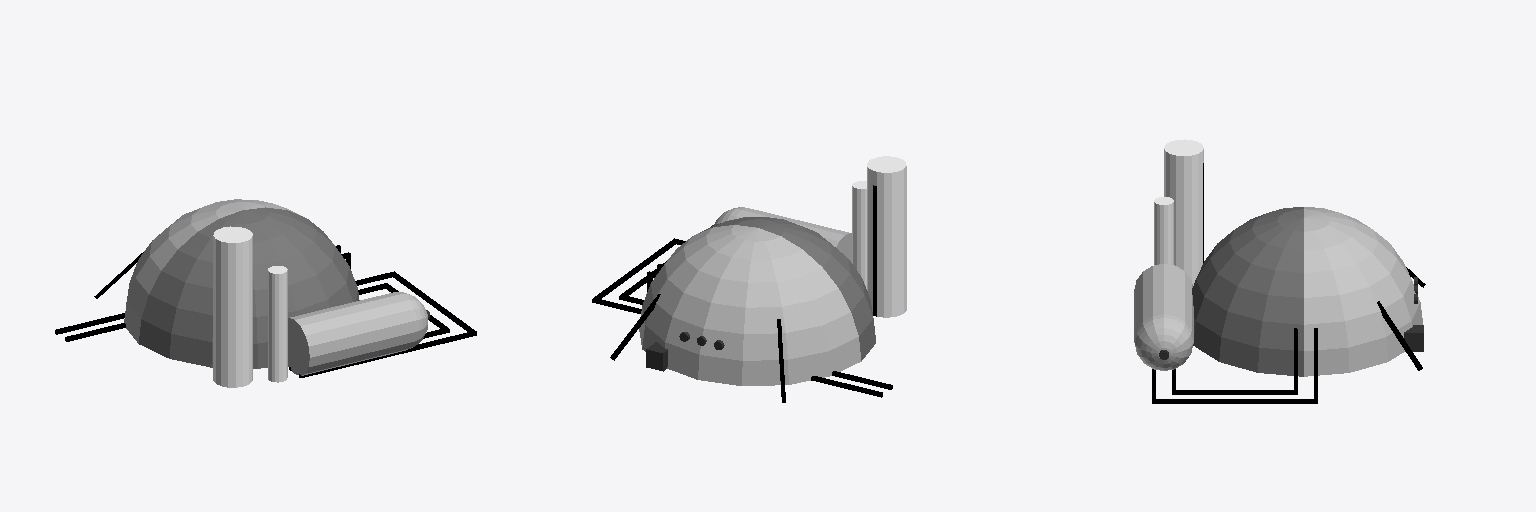
Rendered from ChemicalPlant.obj.
3 renders of one model, left to right at view 1: azimuth 30°, elevation 25°; view 2: azimuth 150°, elevation 25°; view 3: azimuth 270°, elevation 25°, orthographic.
Parts seen in each view (by area): view 1: ChemicalPlant; view 2: ChemicalPlant; view 3: ChemicalPlant.
Boxes of the visible parts, <box> form: ChemicalPlant: <box>55,199,476,387</box>; ChemicalPlant: <box>592,156,906,402</box>; ChemicalPlant: <box>1134,139,1425,403</box>.
Size of the model in its own units: 9.1 by 4.07 by 7.31.